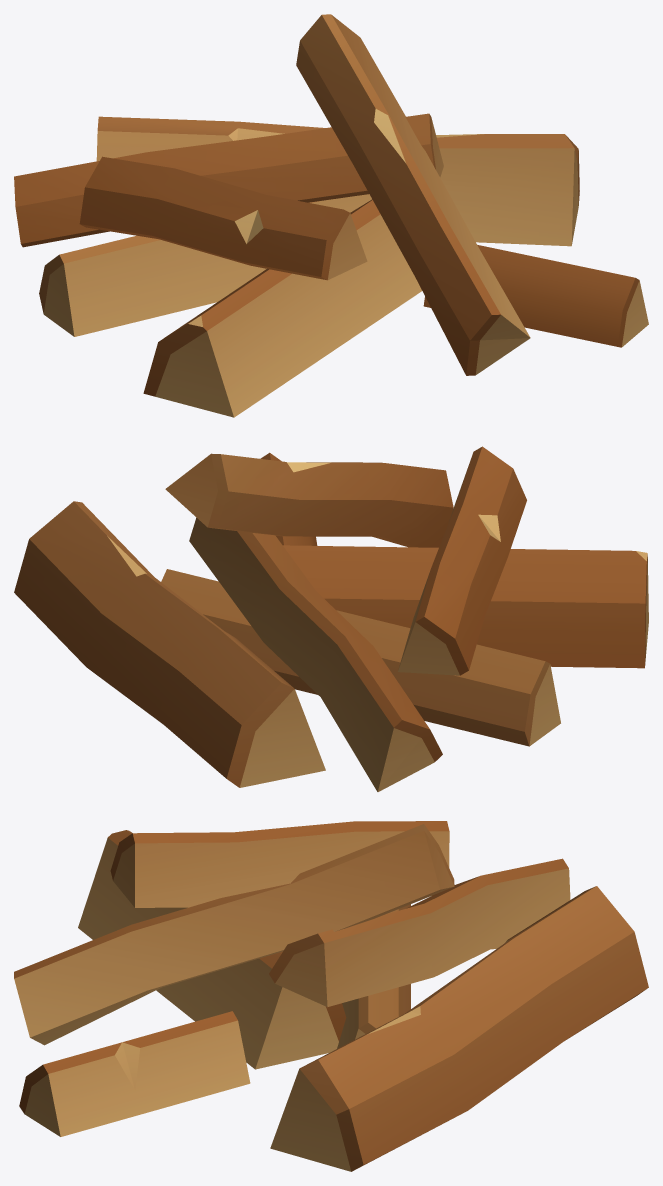
The model's file is CutedWood_1_C.glb.
The picture shows the model from 3 angles, top to bottom: view 1: azimuth 30°, elevation 25°; view 2: azimuth 150°, elevation 25°; view 3: azimuth 270°, elevation 25°; orthographic projection. The views are drawn at different scales.
Visible parts, largest first — view 1: CutedWood_1_C; view 2: CutedWood_1_C; view 3: CutedWood_1_C.
Boxes of the visible parts, left/top/right/bottom form: CutedWood_1_C: left=14, top=14, right=648, bottom=417; CutedWood_1_C: left=14, top=446, right=648, bottom=791; CutedWood_1_C: left=14, top=821, right=648, bottom=1171.
Bounding box in the file's own units: 0.6294 × 0.2554 × 0.6257.
Materials: 1 (1 with a texture image).
